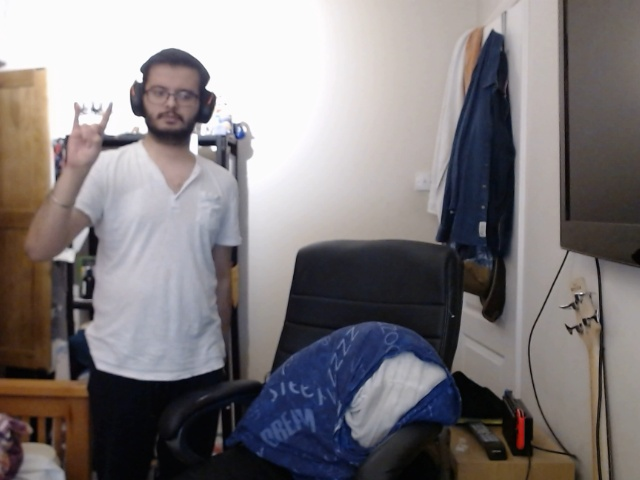Rock on: (58, 100, 121, 170)
